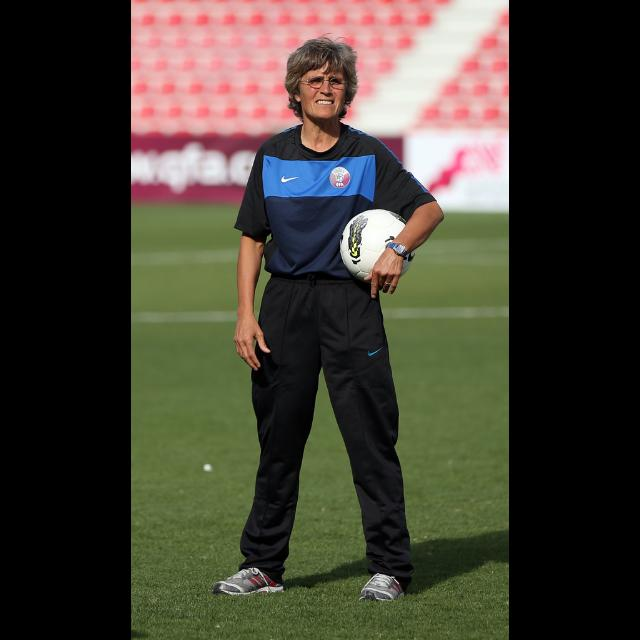Football: (339, 206, 417, 284)
